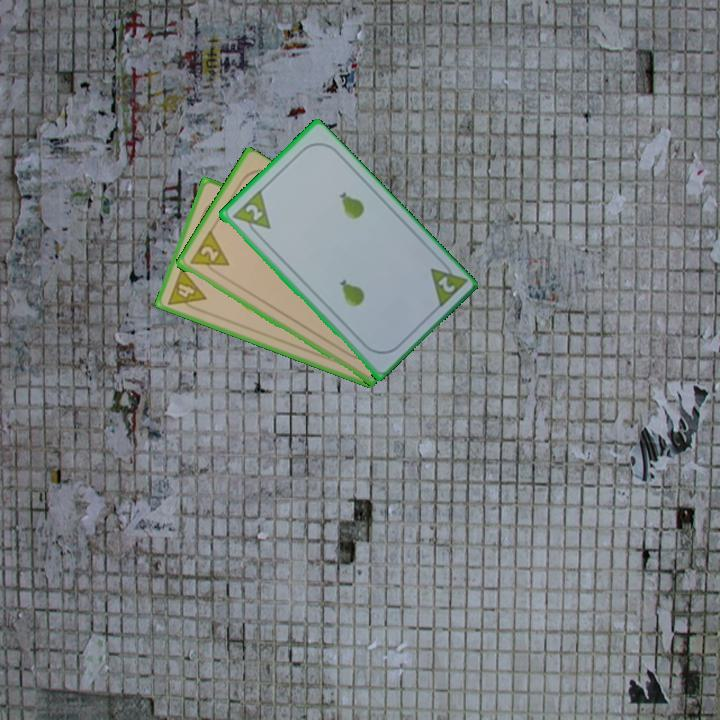2p: (228, 187, 273, 241), (186, 228, 232, 278), (434, 272, 458, 296)
4p: (164, 264, 209, 315)
